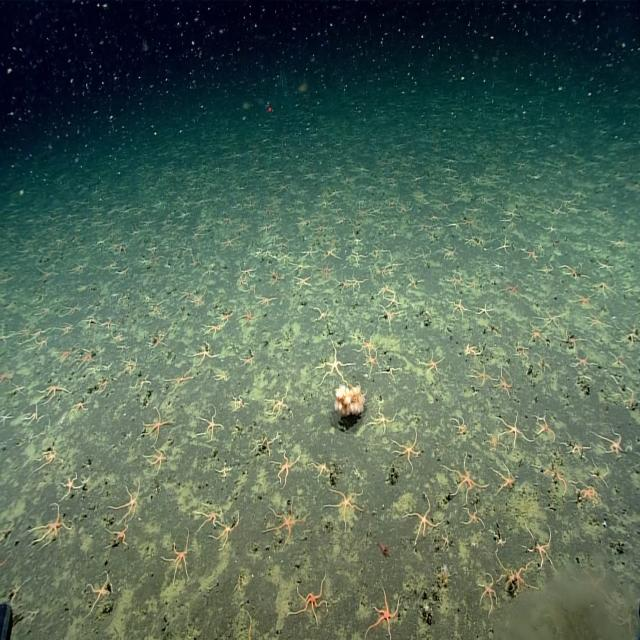brittle-stars: (444, 456, 484, 501), (294, 575, 328, 625), (328, 483, 361, 529), (268, 502, 305, 543), (497, 553, 532, 596), (525, 523, 557, 570), (34, 505, 72, 544), (163, 534, 191, 584), (372, 589, 399, 640), (409, 498, 437, 541), (319, 342, 346, 382), (394, 428, 422, 466), (273, 450, 301, 487), (212, 516, 239, 554), (497, 412, 528, 445), (143, 407, 170, 444), (196, 409, 224, 441), (266, 388, 293, 420), (87, 574, 112, 608), (491, 460, 516, 494), (116, 484, 140, 518), (367, 407, 397, 433), (563, 432, 589, 462), (599, 426, 624, 457), (478, 573, 498, 610), (197, 498, 220, 530), (576, 479, 599, 509), (62, 470, 82, 503), (536, 414, 558, 444), (147, 446, 168, 476), (536, 307, 564, 328), (420, 349, 443, 374), (40, 445, 60, 472), (169, 370, 192, 393), (42, 378, 67, 399), (526, 320, 546, 346), (109, 525, 131, 548), (496, 367, 514, 395), (484, 427, 504, 452), (194, 342, 214, 366), (572, 354, 594, 373), (359, 330, 377, 353), (76, 349, 96, 369), (572, 290, 592, 310), (463, 339, 484, 358), (149, 329, 166, 352), (54, 346, 73, 366), (462, 507, 482, 526), (472, 364, 491, 384), (477, 302, 496, 320), (445, 270, 463, 289), (348, 248, 366, 267), (451, 298, 468, 318), (296, 272, 313, 292), (240, 262, 258, 280), (405, 272, 422, 291), (221, 232, 238, 251), (365, 352, 381, 372), (240, 352, 256, 370), (348, 272, 364, 290), (203, 323, 222, 337), (320, 261, 334, 280), (74, 399, 88, 418), (232, 394, 247, 411), (497, 237, 512, 254), (258, 294, 276, 308), (524, 246, 538, 264), (242, 306, 254, 326), (505, 281, 520, 297), (268, 268, 284, 283), (303, 245, 317, 262), (462, 214, 476, 230), (0, 409, 13, 426), (388, 292, 400, 310), (492, 258, 505, 273), (194, 290, 204, 305), (113, 331, 125, 343), (443, 534, 451, 549)
